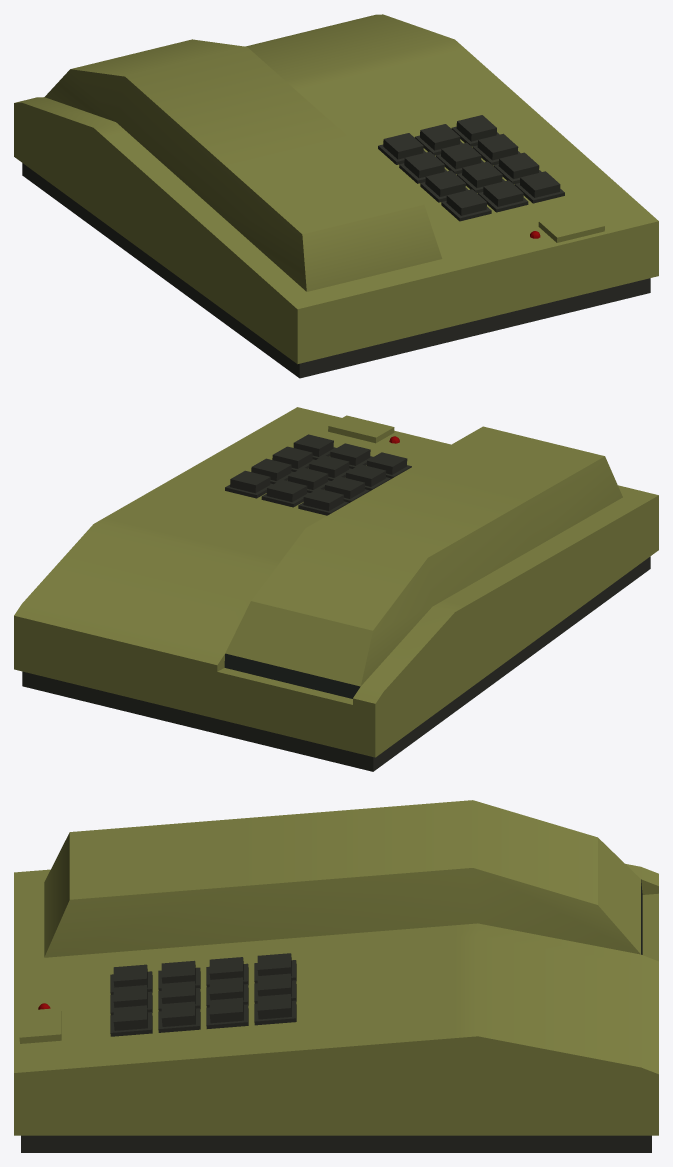
File: Phone.fbx
3 renders of one model, top to bottom at view 1: azimuth 30°, elevation 25°; view 2: azimuth 150°, elevation 25°; view 3: azimuth 270°, elevation 25°, orthographic. The views are drawn at different scales.
Parts seen in each view (by area): view 1: Phone; view 2: Phone; view 3: Phone.
Part boxes in pixels (<box>): Phone: <box>14,14,658,378</box>; Phone: <box>14,407,658,771</box>; Phone: <box>14,800,658,1152</box>.
Bounding box in the file's own units: 17 × 6.77 × 23.09.
